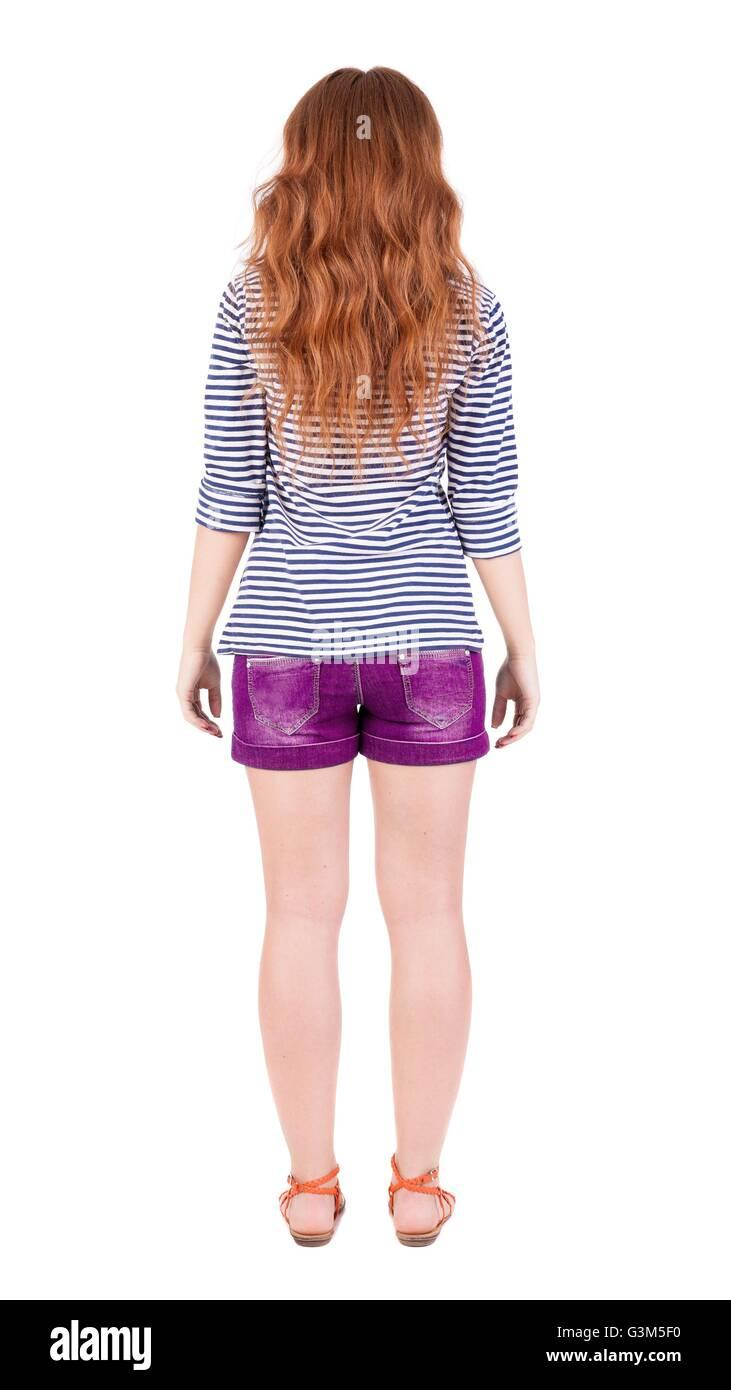Shorts: (224, 642, 495, 774)
long sleeve shirt: (194, 244, 525, 652)
